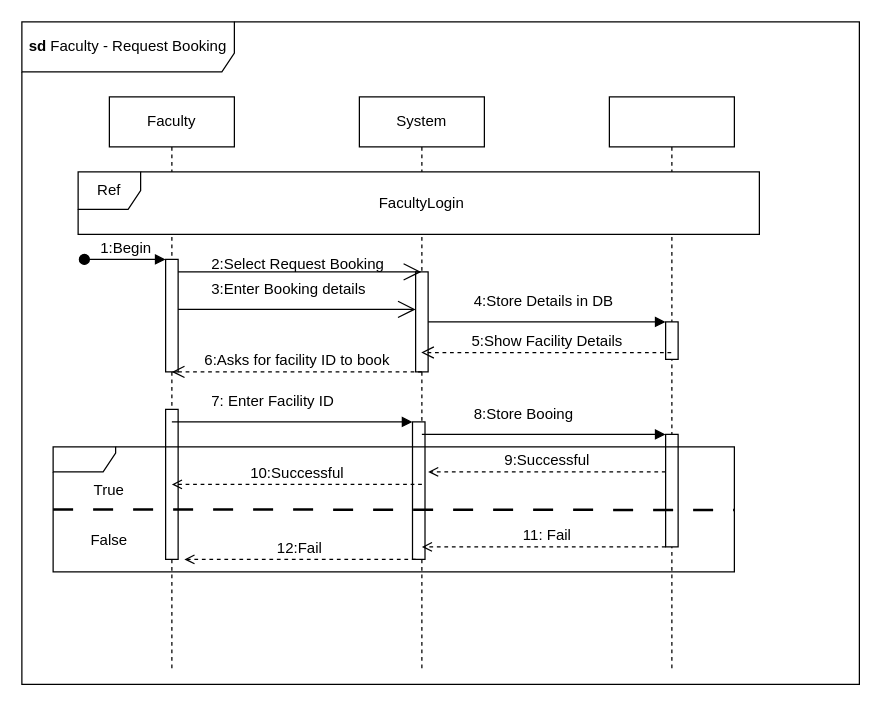
This 881x706 diagram has some shape labels left out. The centre of each missing label's shape, as x and y in pixels:
alt: point (393, 509)
Database: point (671, 384)
